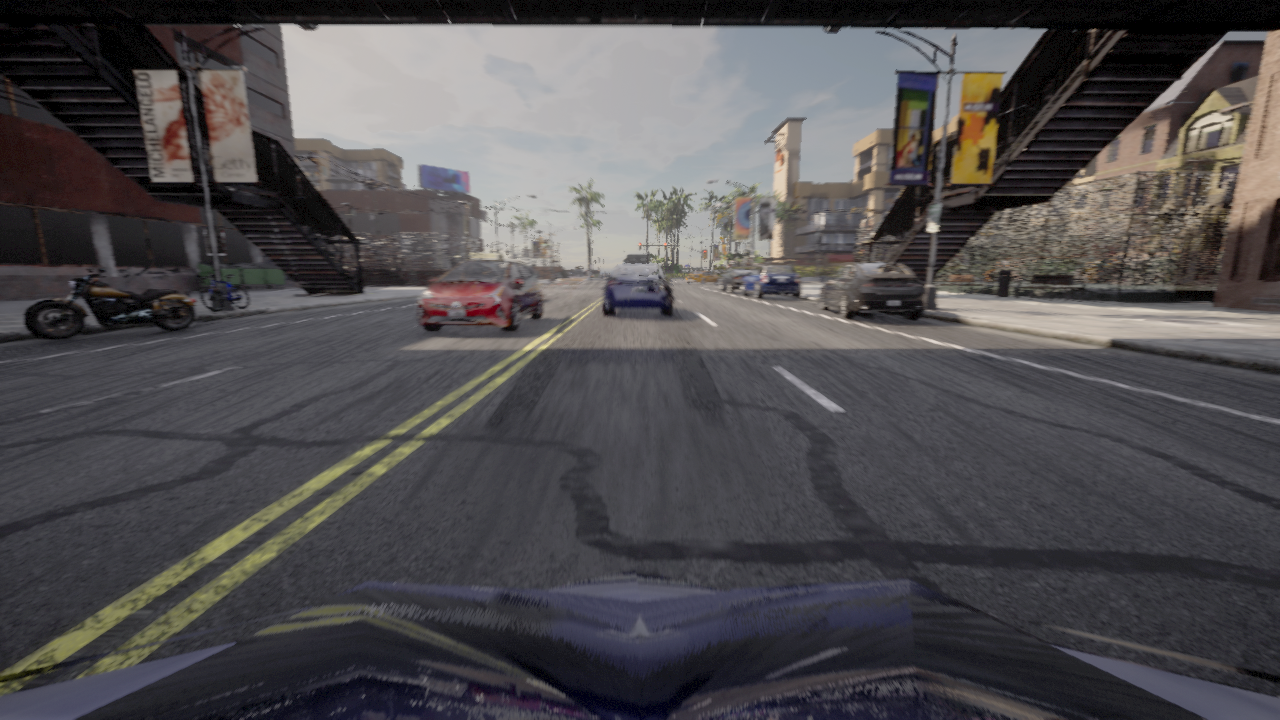cyclist: (0, 569, 1279, 719), (25, 268, 196, 339), (417, 260, 542, 331), (820, 262, 924, 319), (603, 264, 672, 315), (740, 263, 801, 298), (198, 273, 248, 310), (720, 268, 752, 293), (686, 271, 720, 284), (623, 252, 652, 263)
